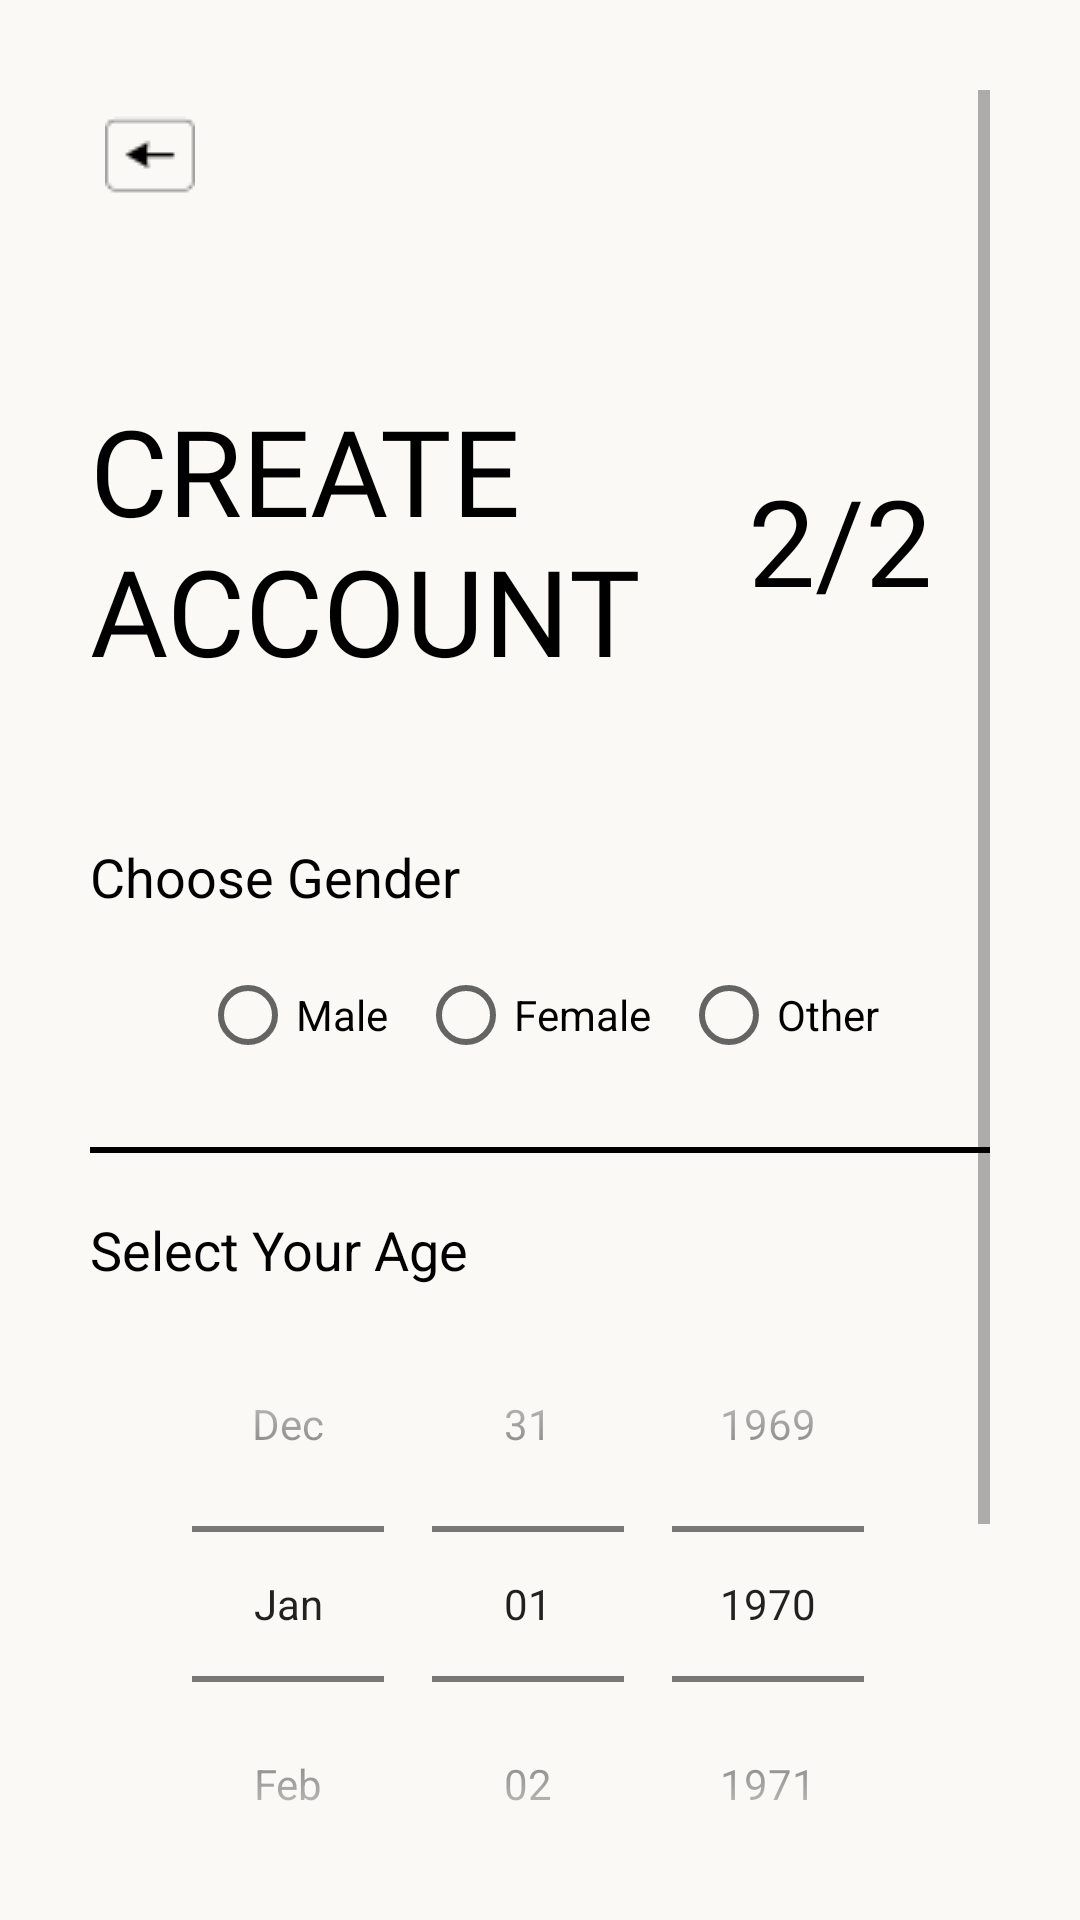

Point at icon controls on the screen. Image size 1080*1920, points as (x=x, y=y).
back: (x=150, y=156)
